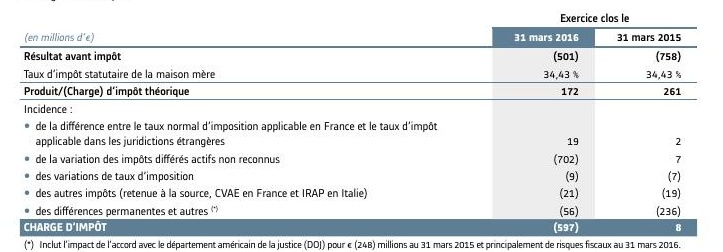table: (0, 0, 723, 252)
